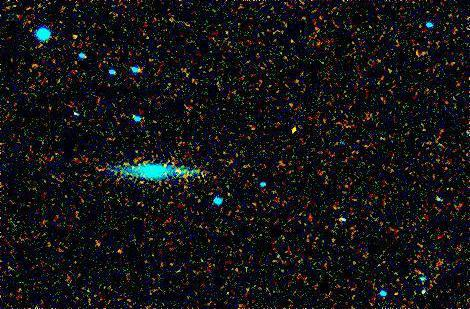star: (274, 120, 304, 150)
